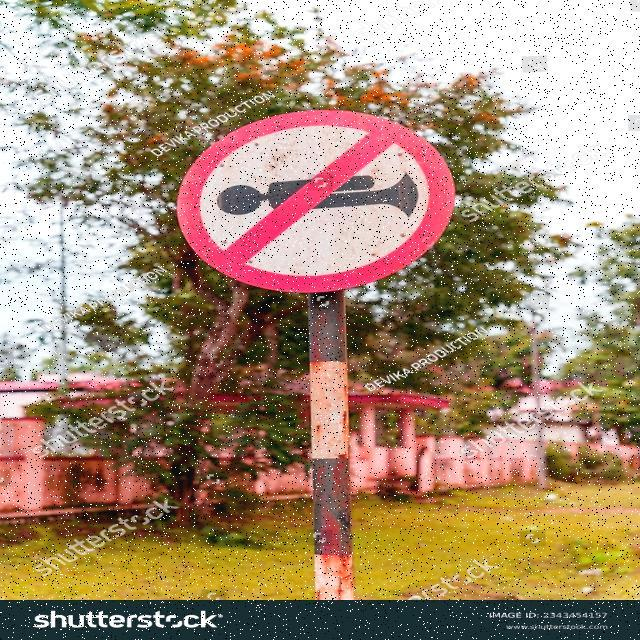Traffic sign: (172, 103, 464, 300)
